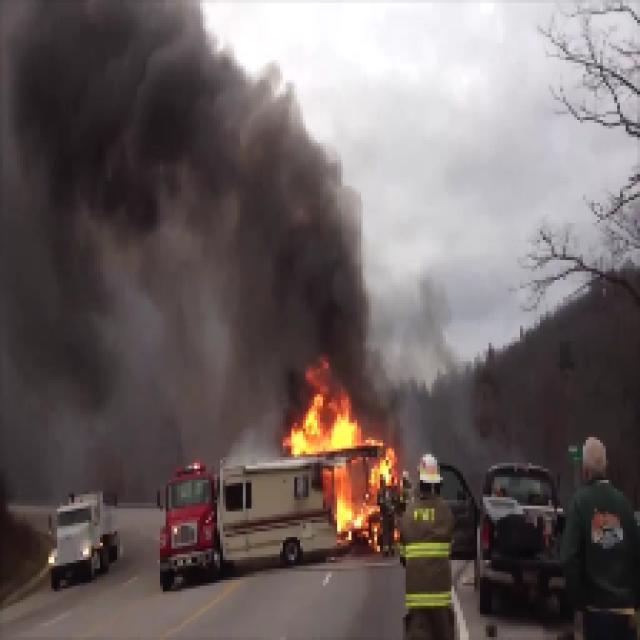fire: (293, 385, 401, 542)
smoke: (2, 3, 210, 434), (212, 53, 372, 353)
